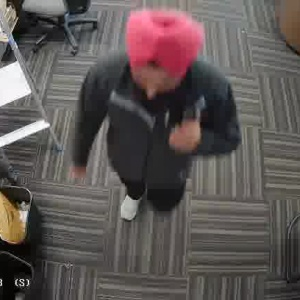person: (101, 16, 222, 227)
